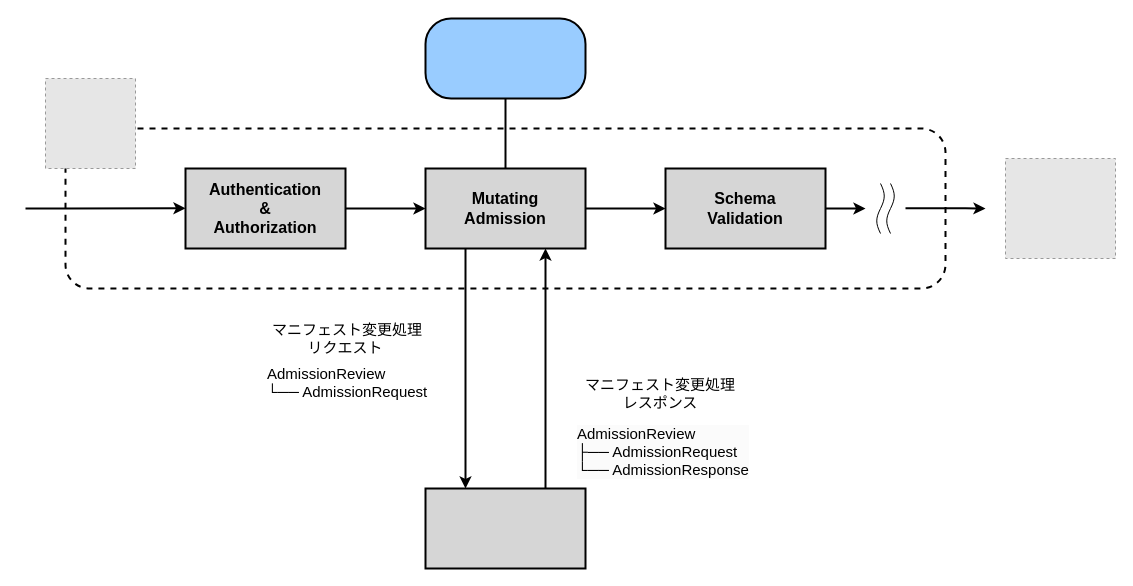
This 1133x586 diagram has some shape labels left out. Grey dashed boxes stand in for pictures. Here are the shapes that lost their labels. From the top down, the box of each, then its label:
(424, 17, 586, 99): MutatingWebhook Configuration
(424, 487, 586, 569): Webhook サーバー
